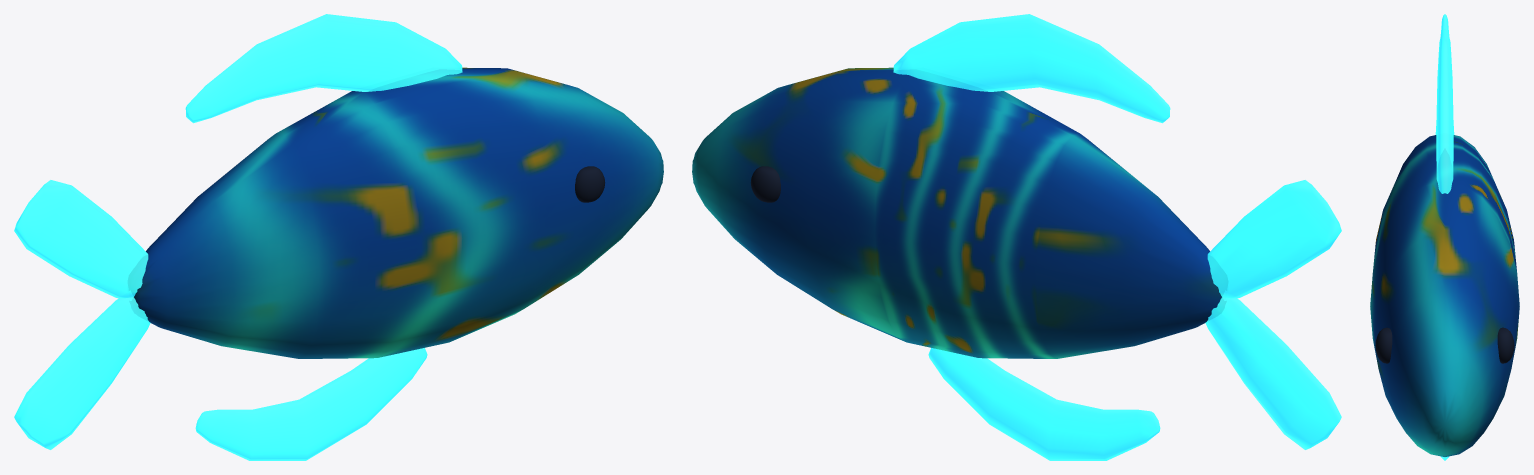
Rendered from alien_fish_1.glb.
The picture shows the model from 3 angles, left to right: view 1: azimuth 30°, elevation 25°; view 2: azimuth 150°, elevation 25°; view 3: azimuth 270°, elevation 25°; orthographic projection. The views are drawn at different scales.
Visible parts, largest first — view 1: fish_body; view 2: fish_body; view 3: fish_body.
Boxes of the visible parts, bbox=[...] form: fish_body: bbox=[14, 14, 663, 460]; fish_body: bbox=[692, 14, 1341, 460]; fish_body: bbox=[1370, 14, 1519, 460].
Size of the model in its own units: 1.15 by 0.7503 by 0.2452.
3 materials, 1 textured.
